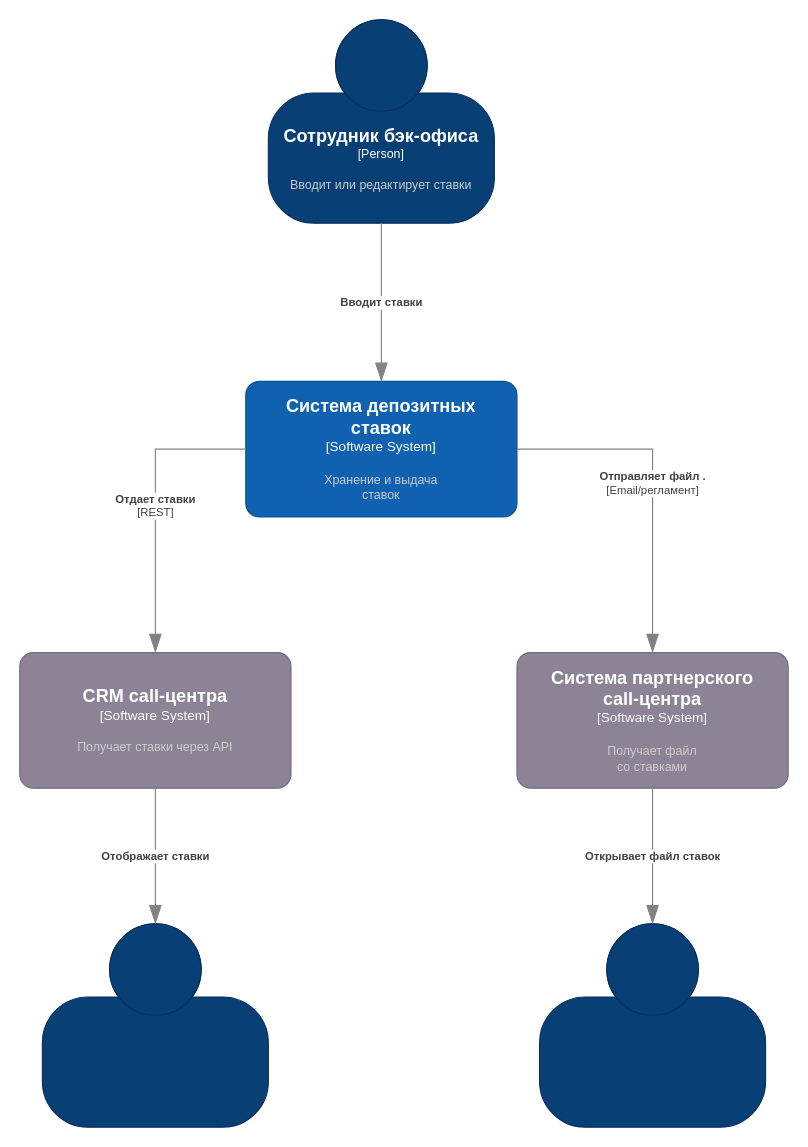
This 808x1147 diagram has some shape labels left out. Each missing label, with the centre of its shape:
Оператор внешнего call-центра [Person] Консультирует по полученному файлу: the point at 652,1025
Оператор внутреннего call-центра [Person] Консультирует клиента: the point at 154,1025
